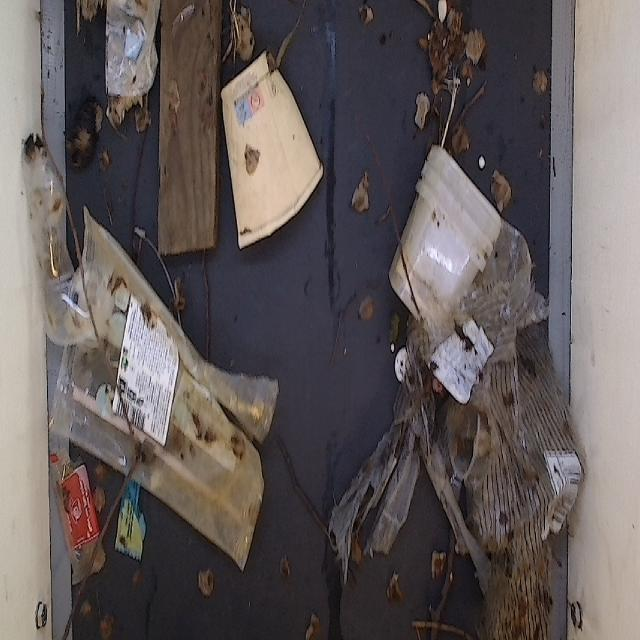caps_and_lids: (392, 352, 413, 392)
food_packaging: (218, 34, 336, 246)
food_wrapping: (52, 462, 102, 570), (112, 441, 146, 569)
outside_classes: (384, 139, 496, 345)
plastic_cups: (22, 130, 95, 348)
plastic_films: (74, 205, 278, 582), (464, 207, 589, 640), (341, 324, 427, 575), (95, 0, 167, 108)
